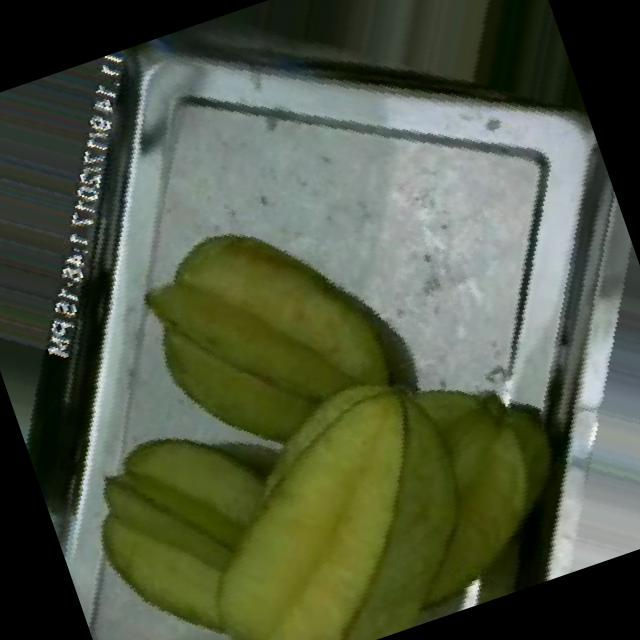fruit: (67, 134, 474, 532), (25, 354, 372, 640)
